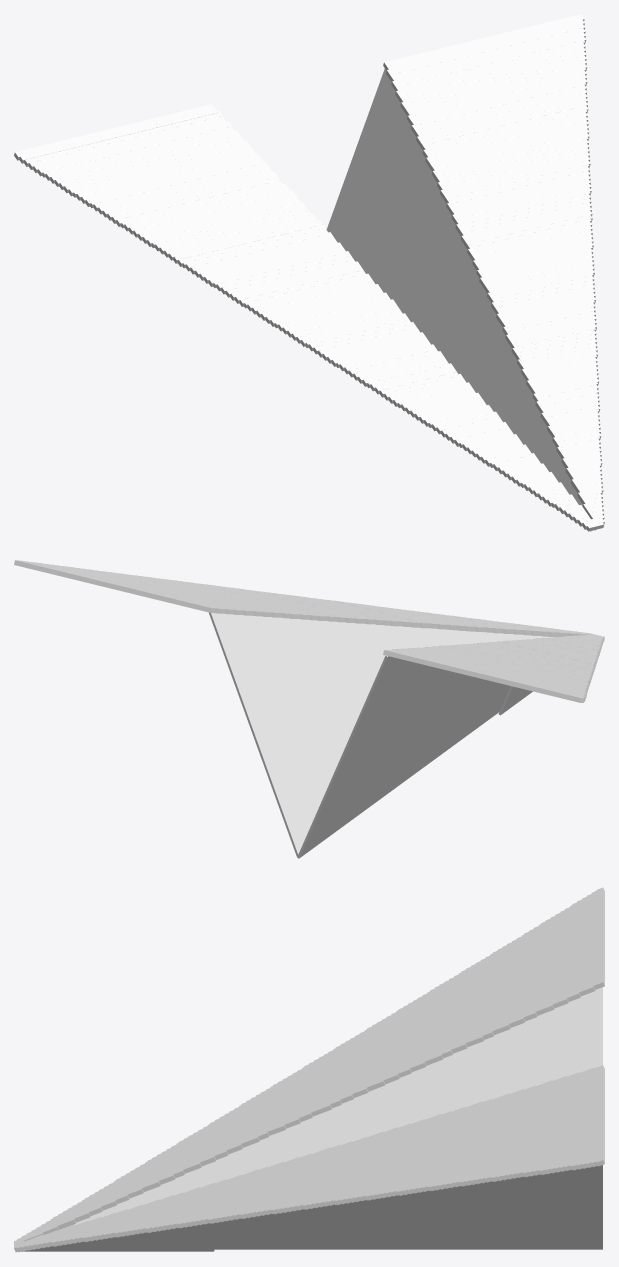
The model's file is paperairplane.glb.
3 views of the same model, one above another, from view 1: azimuth 30°, elevation 25°; view 2: azimuth 150°, elevation 25°; view 3: azimuth 270°, elevation 25° (orthographic).
Visible parts, largest first — view 1: Element (×77); view 2: Element (×52); view 3: Element (×54).
Boxes of the visible parts, box(x1,y1,x2,y2) form: Element (×77): box(14, 14, 594, 346); Element (×52): box(14, 560, 584, 858); Element (×54): box(383, 887, 604, 1249).
Bounding box in the file's own units: 1.34 × 0.5169 × 1.22.
Materials: 1 (1 with a texture image).
